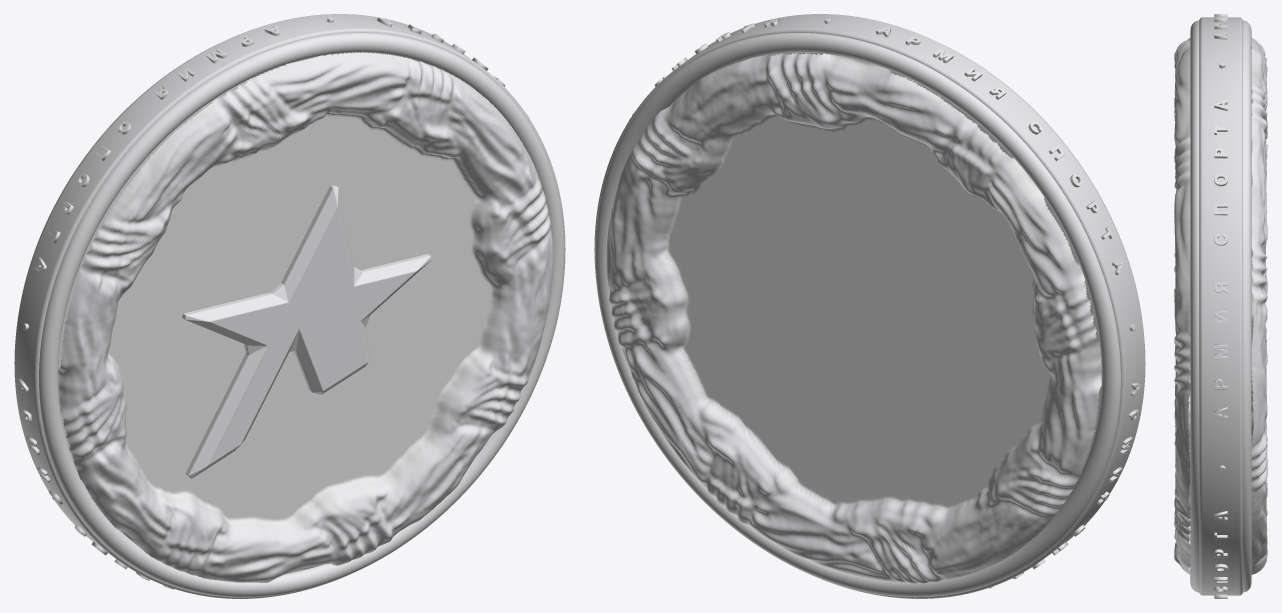
The model's file is coin_mirror.glb.
3 renders of one model, left to right at view 1: azimuth 30°, elevation 25°; view 2: azimuth 150°, elevation 25°; view 3: azimuth 270°, elevation 25°, orthographic. The views are drawn at different scales.
Visible parts, largest first — view 1: Grid_web, Torus.006, star, Cylinder; view 2: Grid.001_web, Torus.007, Cylinder; view 3: Cylinder, Grid_web, Grid.001_web, Torus.006, Torus.007, t.002.
Boxes of the visible parts, x1,y1,x2,y2 form: Grid_web: (58,52,553,582); Torus.006: (39,33,564,597); star: (182,185,431,478); Cylinder: (14,14,565,598); Grid.001_web: (606,53,1101,583); Torus.007: (595,33,1120,597); Cylinder: (594,14,1145,598); Cylinder: (1199,17,1242,595); Grid_web: (1174,38,1190,574); Grid.001_web: (1251,38,1267,574); Torus.006: (1190,20,1199,592); Torus.007: (1242,20,1251,592); t.002: (1214,344,1227,359).
Bounding box in the file's own units: 2.02 × 2.02 × 0.3219.
5 materials, 2 textured.
